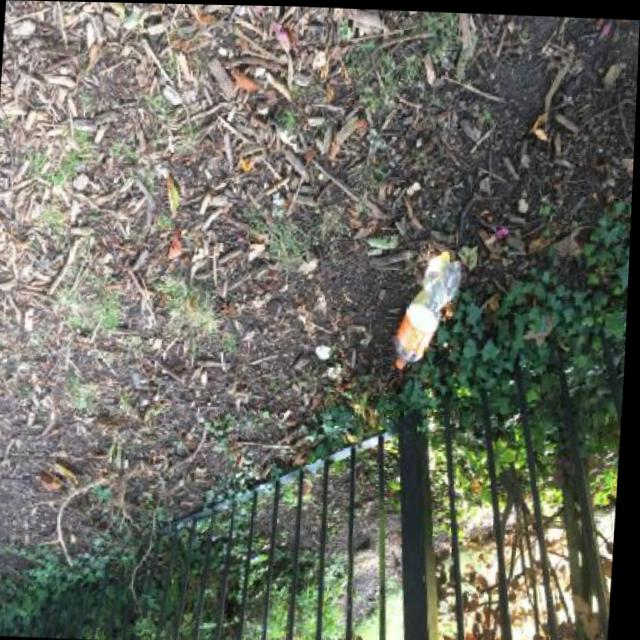plastic: (393, 249, 463, 372)
